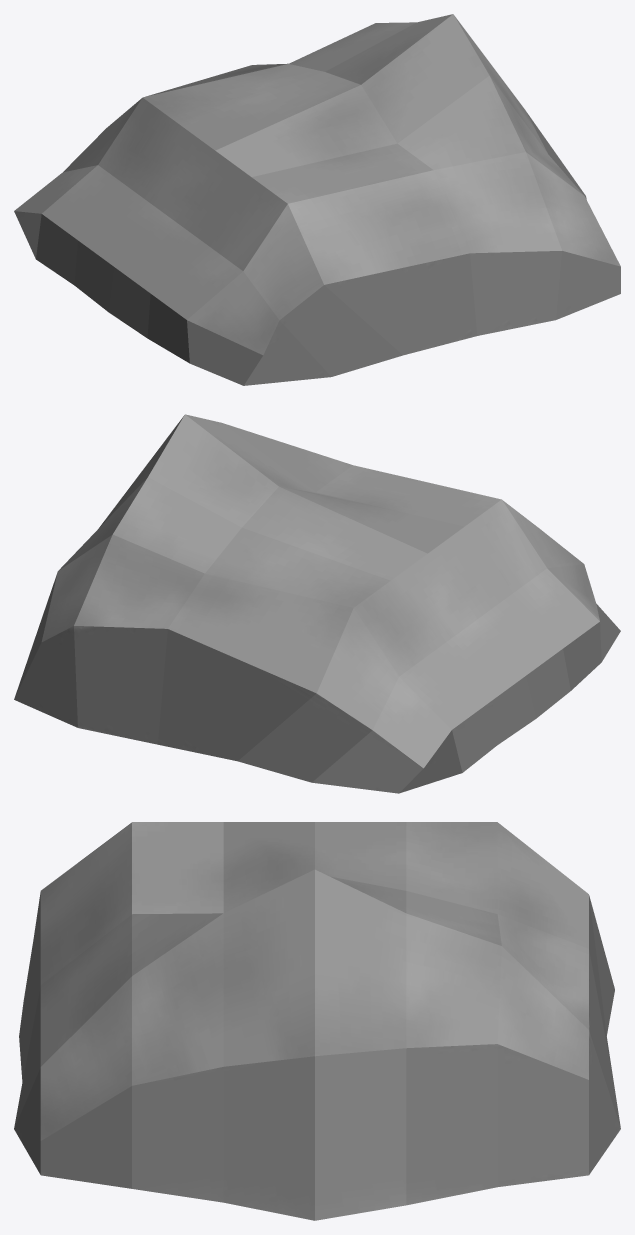
The model's file is piedra2.glb.
3 views of the same model, one above another, from view 1: azimuth 30°, elevation 25°; view 2: azimuth 150°, elevation 25°; view 3: azimuth 270°, elevation 25° (orthographic). The views are drawn at different scales.
Visible parts, largest first — view 1: piedra 2; view 2: piedra 2; view 3: piedra 2.
Part boxes in pixels (x1,y1,x2,y2): piedra 2: (14,14,620,385); piedra 2: (14,414,620,793); piedra 2: (14,822,620,1220).
Size of what is drawn, in the model's own units: 3.03 by 1.34 by 2.65.
1 material, 1 textured.
